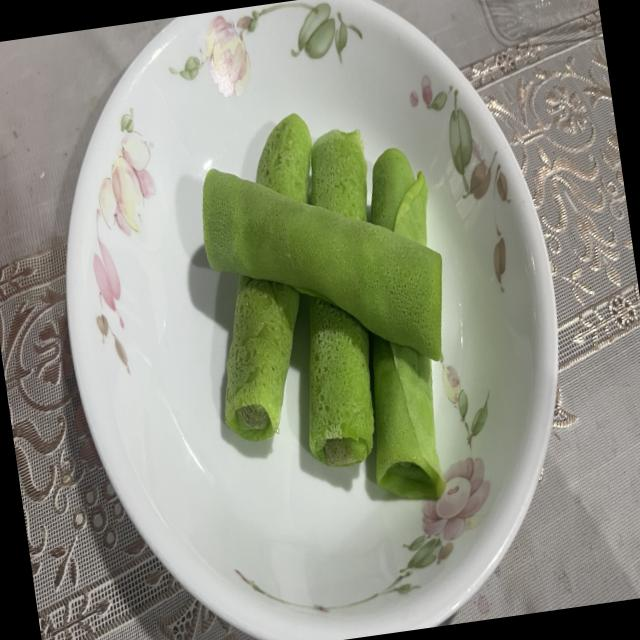Kuih-Ketayap: (202, 169, 442, 360), (225, 275, 300, 442), (373, 336, 445, 499), (309, 296, 374, 468), (371, 148, 428, 245), (311, 129, 367, 222), (256, 113, 312, 203)
